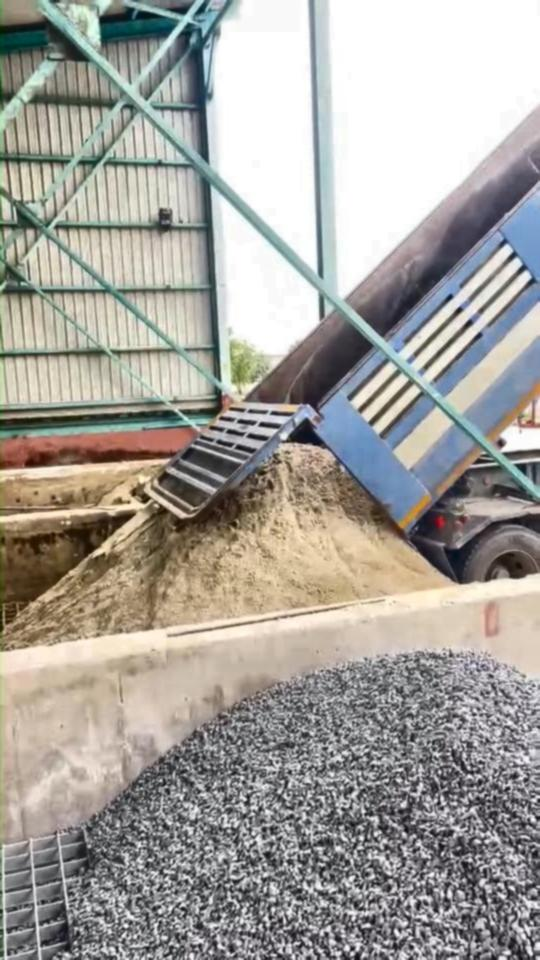gravel: (71, 651, 538, 959)
sand: (4, 445, 448, 648), (99, 465, 162, 506)
